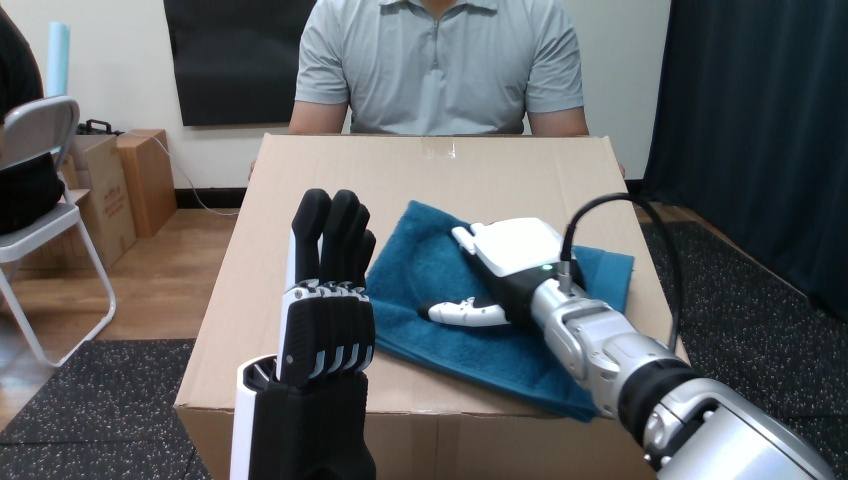left robot hand: (666, 221, 847, 478), (230, 189, 375, 478)
